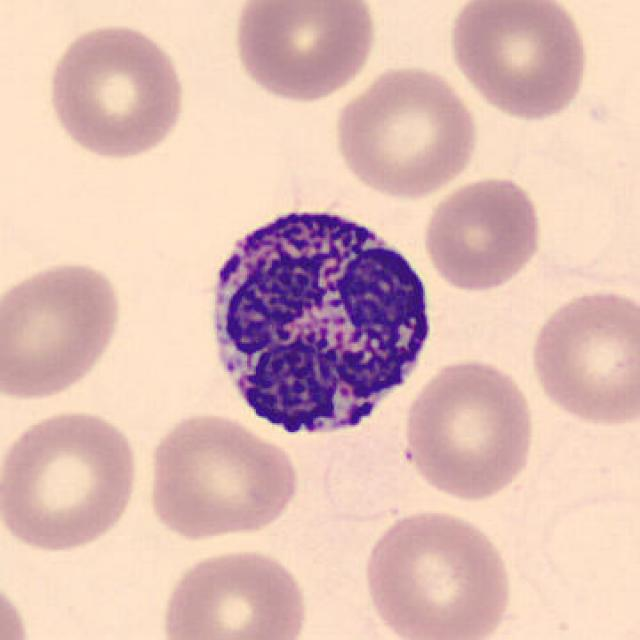Basophil: (194, 188, 444, 448)
RBC: (0, 406, 144, 556), (359, 504, 517, 640), (142, 409, 302, 543), (41, 19, 190, 162), (398, 354, 540, 502), (331, 62, 484, 199), (0, 255, 126, 406), (444, 0, 593, 123), (524, 284, 638, 428), (230, 0, 380, 106), (156, 543, 313, 640), (420, 172, 546, 292), (0, 569, 34, 640)
